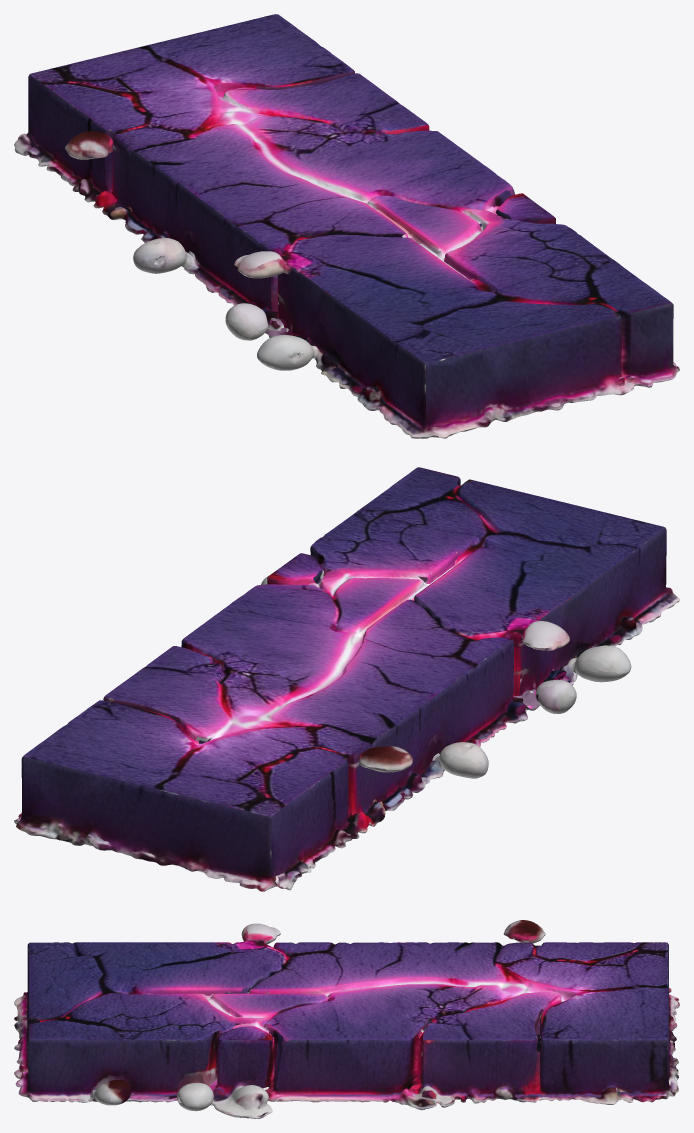
Rendered from approach-stone-2-generated-2026-05-17T18-19-31-221Z.high.glb.
3 renders of one model, top to bottom at view 1: azimuth 30°, elevation 25°; view 2: azimuth 150°, elevation 25°; view 3: azimuth 270°, elevation 25°, orthographic. The views are drawn at different scales.
Parts seen in each view (by area): view 1: temp_mesh.ply; view 2: temp_mesh.ply; view 3: temp_mesh.ply.
Boxes of the visible parts, box(x1,y1,x2,y2) form: temp_mesh.ply: box(14, 14, 679, 438); temp_mesh.ply: box(14, 467, 679, 891); temp_mesh.ply: box(14, 920, 679, 1118).
Size of the model in its own units: 1.02 by 0.2224 by 1.97.
Materials: 1 (1 with a texture image).
